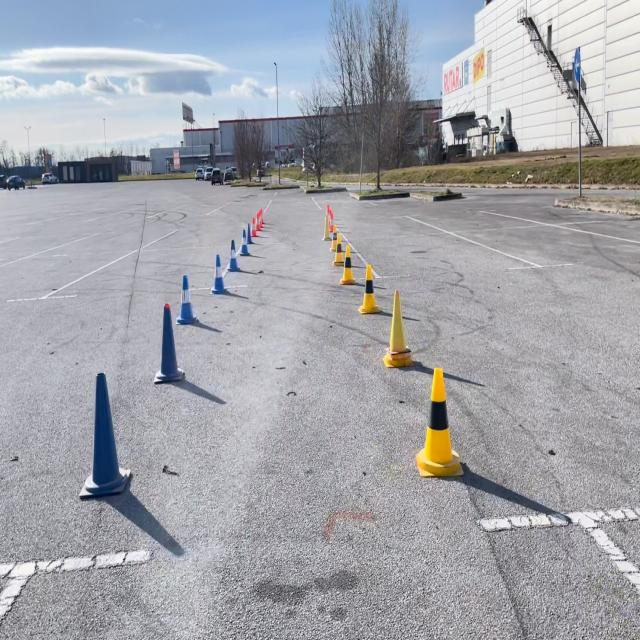blue_cone: (78, 369, 130, 498), (152, 301, 185, 384), (176, 270, 197, 324), (210, 254, 228, 296), (225, 238, 241, 272), (237, 227, 250, 256)
orange_cone: (326, 204, 336, 234), (322, 211, 331, 241), (250, 212, 258, 238), (256, 207, 265, 230)
yellow_cone: (414, 363, 462, 478), (381, 286, 414, 368), (357, 262, 380, 313), (339, 243, 356, 286), (331, 233, 344, 266), (330, 216, 339, 257)
